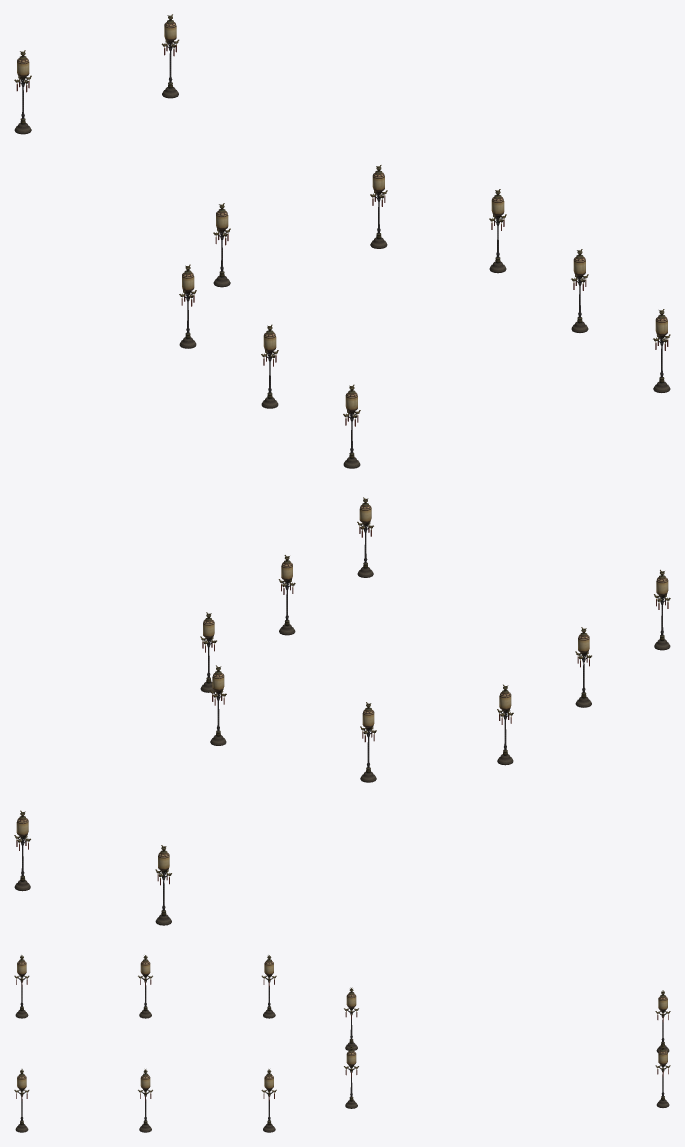
File: Lamps.fbx
The picture shows the model from 3 angles, top to bottom: view 1: azimuth 30°, elevation 25°; view 2: azimuth 150°, elevation 25°; view 3: azimuth 270°, elevation 25°; orthographic projection. The views are drawn at different scales.
Parts seen in each view (by area): view 1: deng_02, deng_07, deng_08, deng_05, deng_01, deng_009, deng_03, deng_010, deng_04, deng_06; view 2: deng_009, deng_010, deng_05, deng_06, deng_08, deng_02; view 3: deng_07, deng_010, deng_04, deng_08, deng_05, deng_06, deng_03, deng_02, deng_009, deng_01.
Boxes of the visible parts, box(x1,y1,x2,y2) form: deng_02: box(161, 14, 179, 98); deng_07: box(261, 324, 278, 408); deng_08: box(343, 384, 360, 468); deng_05: box(179, 264, 196, 348); deng_01: box(14, 50, 31, 134); deng_009: box(213, 203, 230, 287); deng_03: box(489, 189, 506, 273); deng_010: box(370, 165, 387, 248); deng_04: box(571, 249, 588, 332); deng_06: box(653, 309, 670, 392); deng_009: box(360, 702, 376, 782); deng_010: box(210, 665, 226, 745); deng_05: box(497, 684, 513, 765); deng_06: box(357, 497, 373, 577); deng_08: box(654, 569, 670, 650); deng_02: box(14, 810, 30, 891); deng_07: box(138, 955, 152, 1018); deng_010: box(344, 1045, 358, 1108); deng_04: box(138, 1069, 152, 1132); deng_08: box(14, 955, 29, 1018); deng_05: box(261, 955, 276, 1018); deng_06: box(14, 1069, 29, 1132); deng_03: box(261, 1069, 276, 1132); deng_02: box(655, 1044, 670, 1107); deng_009: box(344, 987, 358, 1050); deng_01: box(655, 990, 670, 1052).
Bounding box in the file's own units: 426 × 99.47 × 978.
Materials: 1 (1 with a texture image).
